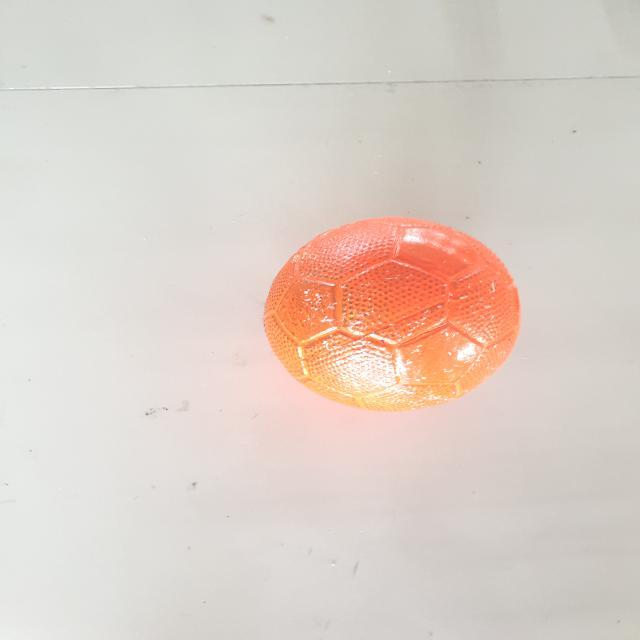bola: (253, 208, 530, 418)
